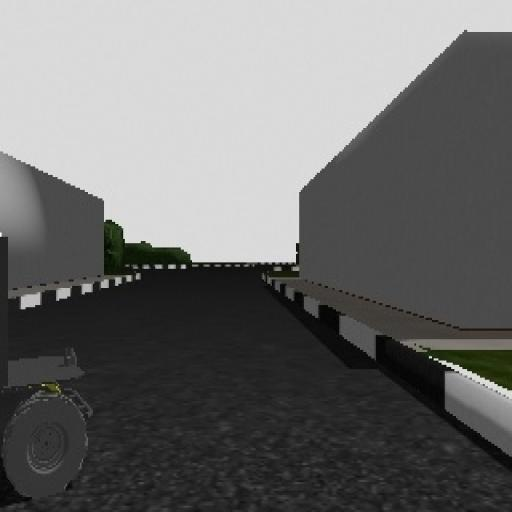huskya200: (0, 200, 108, 512)
